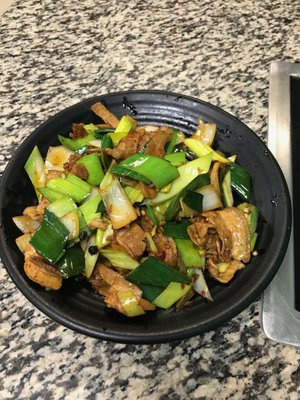sushi: (1, 78, 294, 344)
